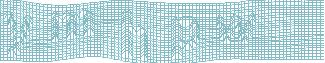h: (118, 8, 151, 61)
m: (49, 8, 97, 43)
p: (168, 15, 201, 62)
w: (215, 13, 256, 47)
y: (1, 11, 33, 59)
